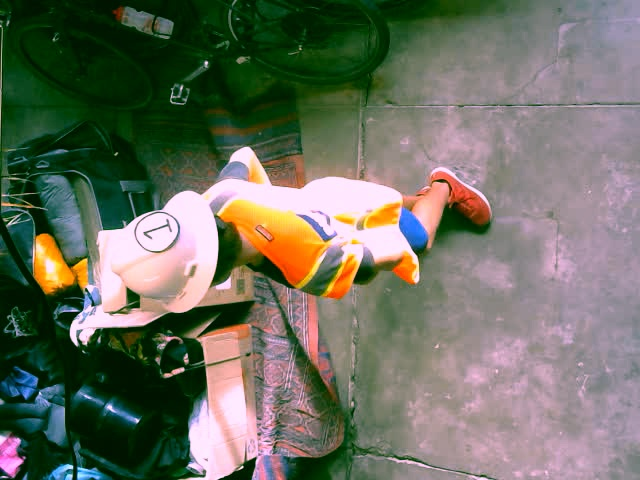one: (136, 211, 179, 252)
